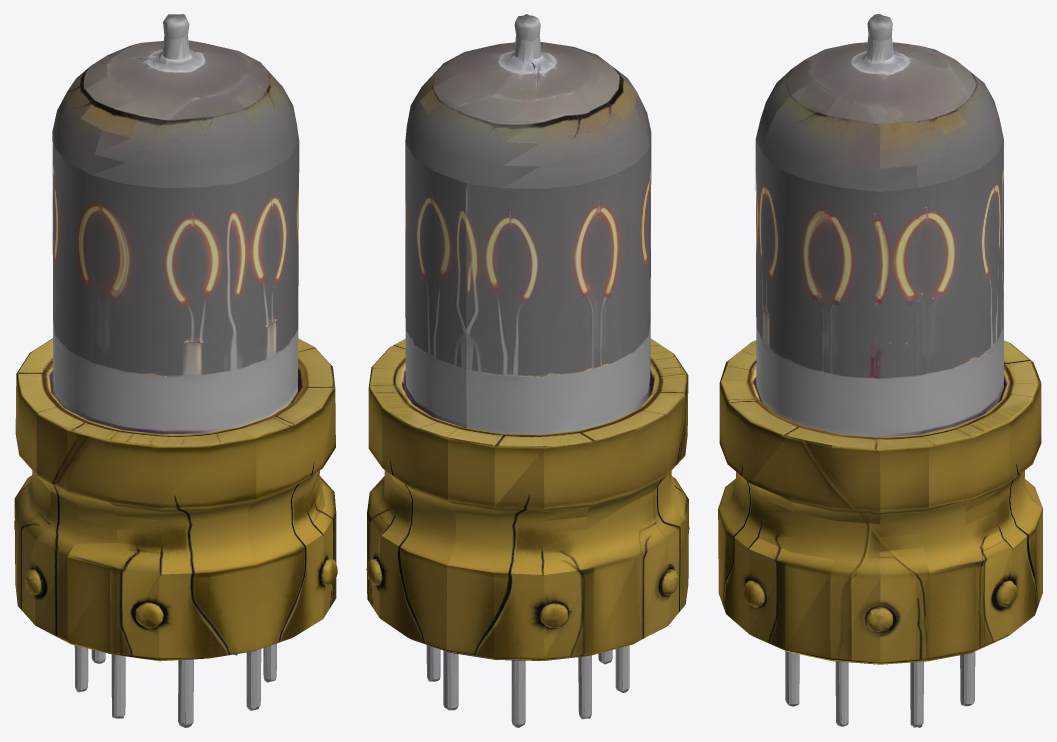
Rendered from rectifier.glb.
3 renders of one model, left to right at view 1: azimuth 30°, elevation 25°; view 2: azimuth 150°, elevation 25°; view 3: azimuth 270°, elevation 25°, orthographic.
Size of the model in its own units: 0.4629 by 1 by 0.4385.
1 material, 1 textured.
